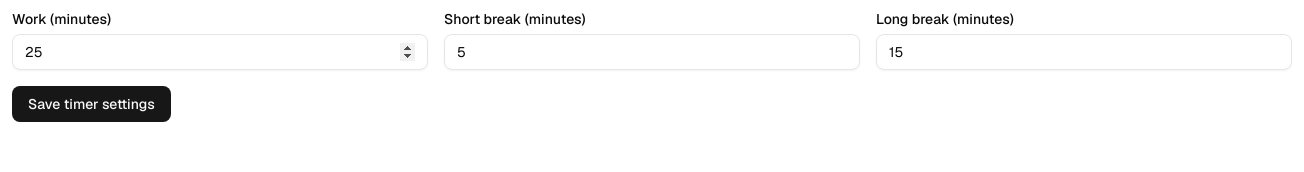
Scenario: PomodoroPreferencesForm › parses empty numeric input values to zero
Clear the number field labelled "Work (minutes)" at (220, 52), box x1=12 y1=34 x2=428 y2=70
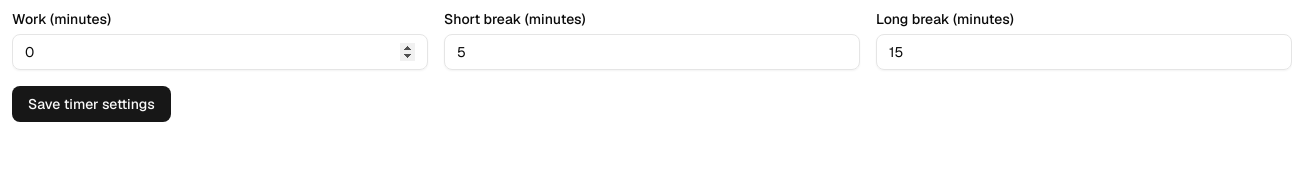
Clear the number field labelled "Short break (minutes)" at (652, 52), box x1=444 y1=34 x2=860 y2=70
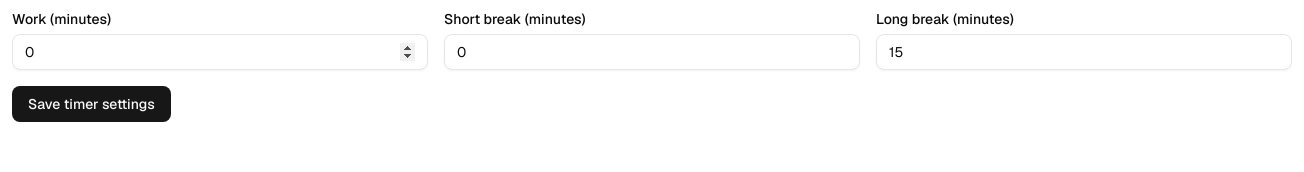
Clear the number field labelled "Long break (minutes)" at (1084, 52), box x1=876 y1=34 x2=1292 y2=70
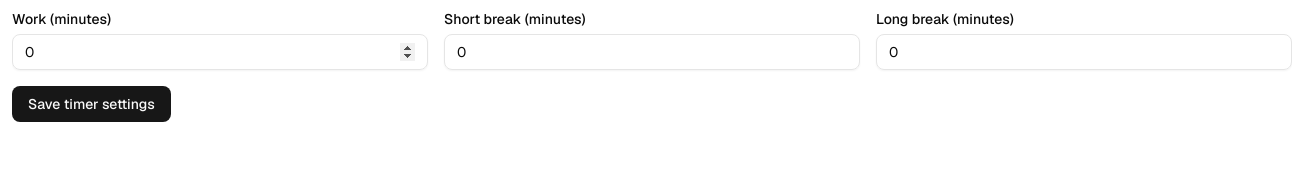
Now the number field labelled "Work (minutes)" holds "0", box x1=12 y1=34 x2=428 y2=70
Now the number field labelled "Short break (minutes)" holds "0", box x1=444 y1=34 x2=860 y2=70
Now the number field labelled "Long break (minutes)" holds "0", box x1=876 y1=34 x2=1292 y2=70
